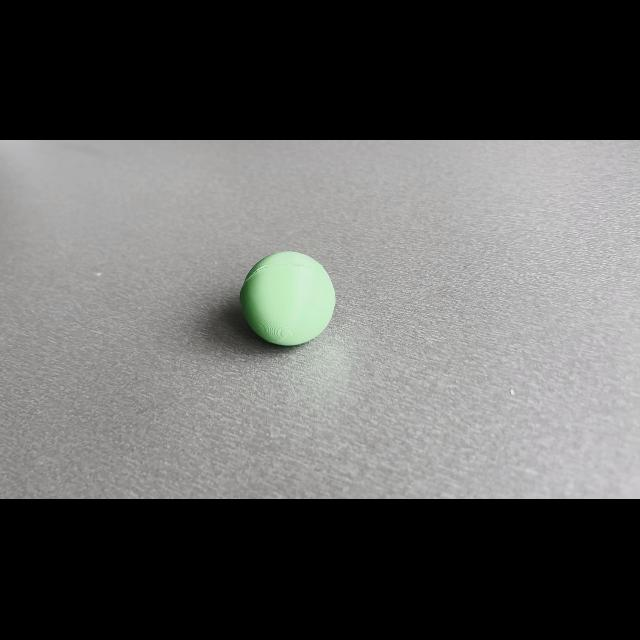objects: (234, 242, 340, 350)
